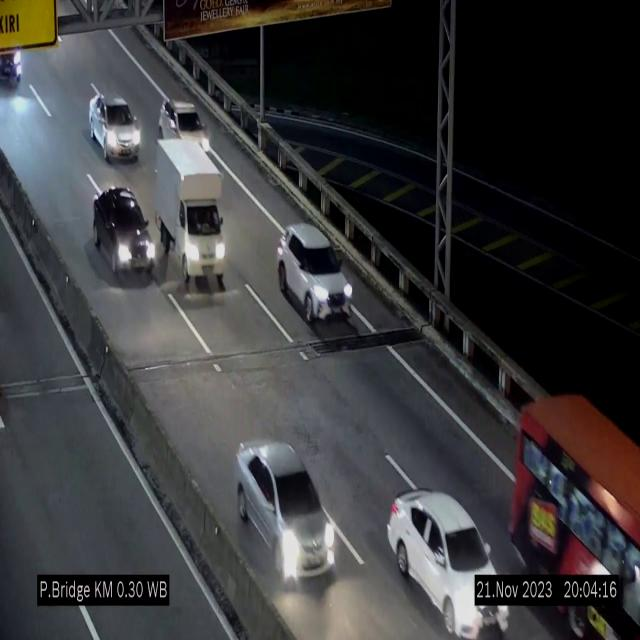Bus: (508, 382, 640, 640)
Car: (387, 490, 511, 639), (236, 441, 336, 582), (277, 224, 353, 328), (92, 180, 156, 284), (89, 92, 141, 160), (158, 96, 213, 152), (0, 44, 27, 84)
Truck: (154, 137, 226, 290)
